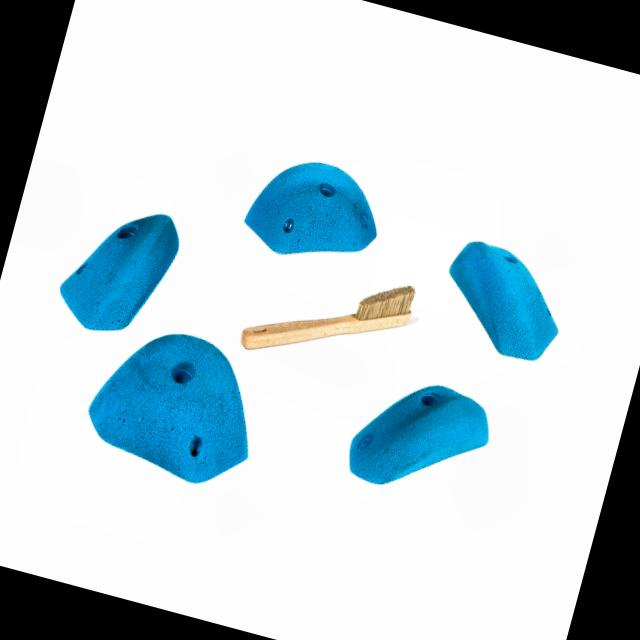Hold: (74, 311, 272, 488), (330, 353, 508, 514), (47, 182, 190, 354), (429, 222, 578, 376), (236, 135, 392, 280)
